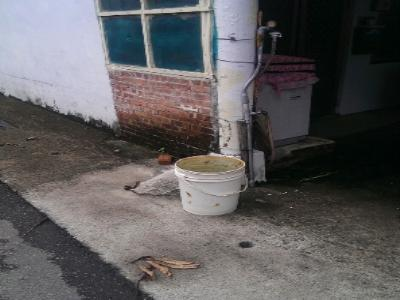bucket: (173, 153, 247, 216)
